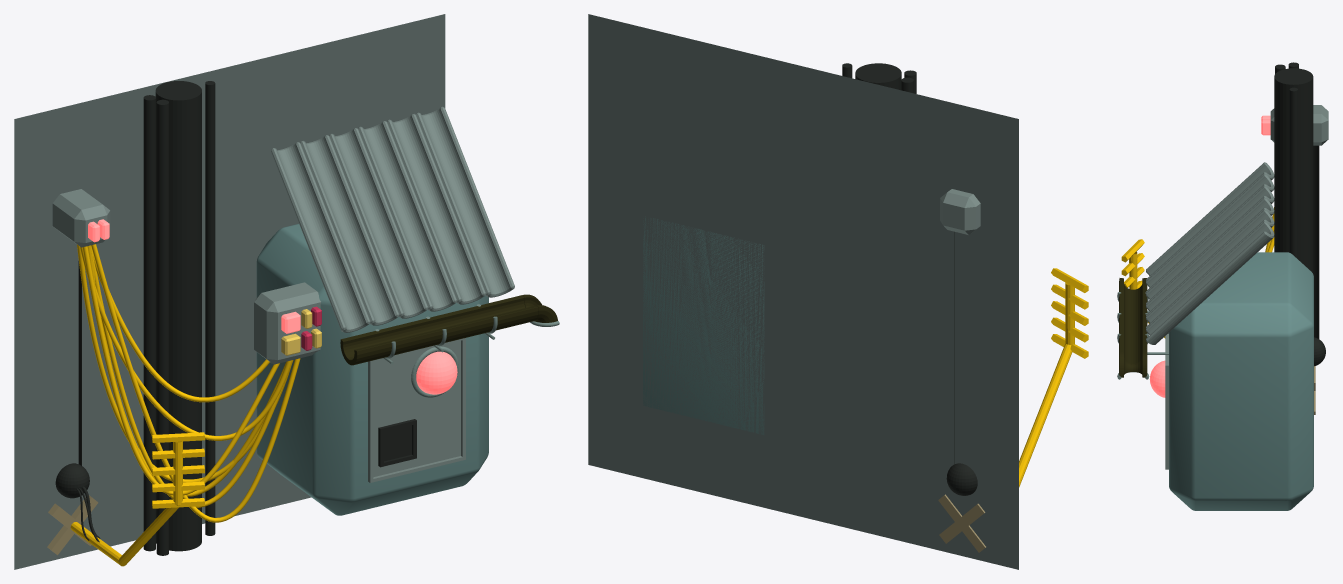
3 views of the same model, side by side, from view 1: azimuth 30°, elevation 25°; view 2: azimuth 150°, elevation 25°; view 3: azimuth 270°, elevation 25° (orthographic). The views are drawn at different scales.
Parts seen in each view (by area): view 1: Cube.173; view 2: Cube.173; view 3: Cube.173.
Part boxes in pixels (box(x1,y1,x2,y2)): Cube.173: box(14, 14, 559, 569); Cube.173: box(588, 14, 1088, 569); Cube.173: box(1117, 62, 1328, 510).
Bounding box in the file's own units: 100 × 100 × 50.53.
